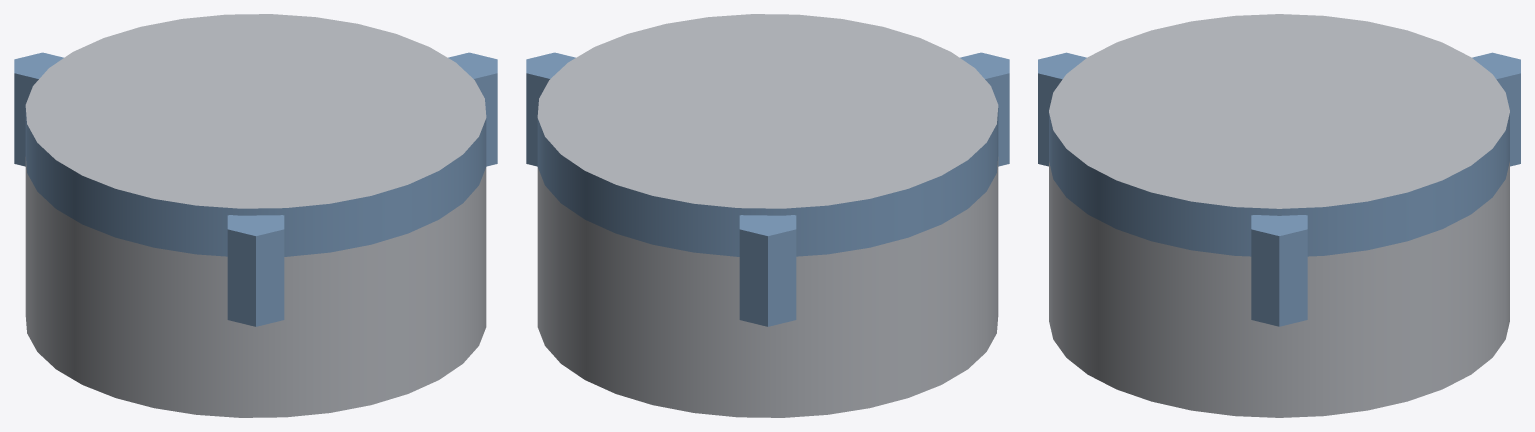
3 renders of one model, left to right at view 1: azimuth 30°, elevation 25°; view 2: azimuth 150°, elevation 25°; view 3: azimuth 270°, elevation 25°, orthographic.
Parts seen in each view (by area): view 1: ratchet_3-60; view 2: ratchet_3-60; view 3: ratchet_3-60.
Part boxes in pixels (bbox=[...]): ratchet_3-60: bbox=[14, 14, 497, 417]; ratchet_3-60: bbox=[526, 14, 1009, 417]; ratchet_3-60: bbox=[1038, 14, 1520, 417].
Size of the model in its own units: 13.25 by 6 by 12.56.
